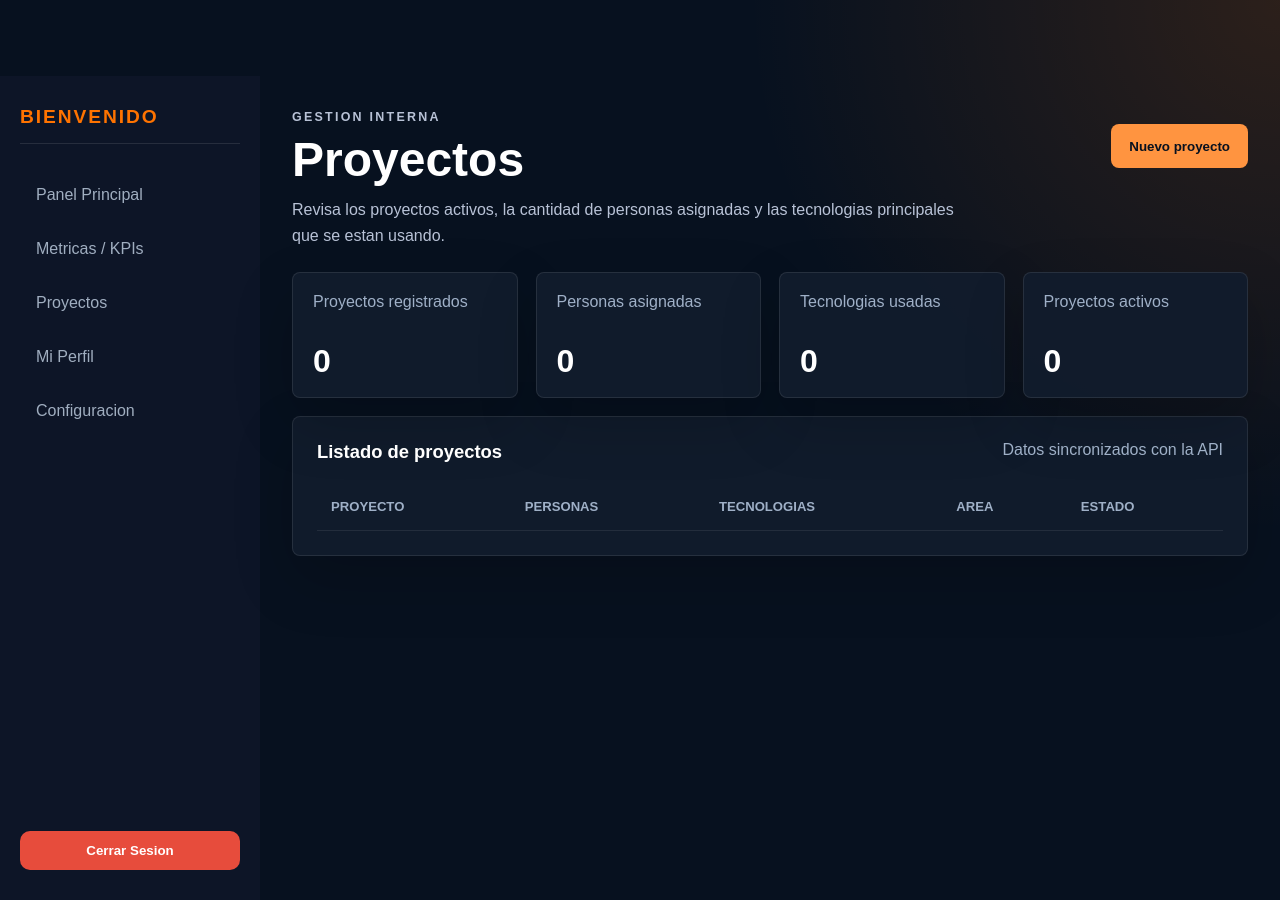
Scenario: Componente Proyectos › 4. Abre/Cierra el formulario y bloquea la creación si el usuario no está autenticado
Click the button "Nuevo proyecto".
click(1180, 146)  # box [1111, 124, 1248, 168]
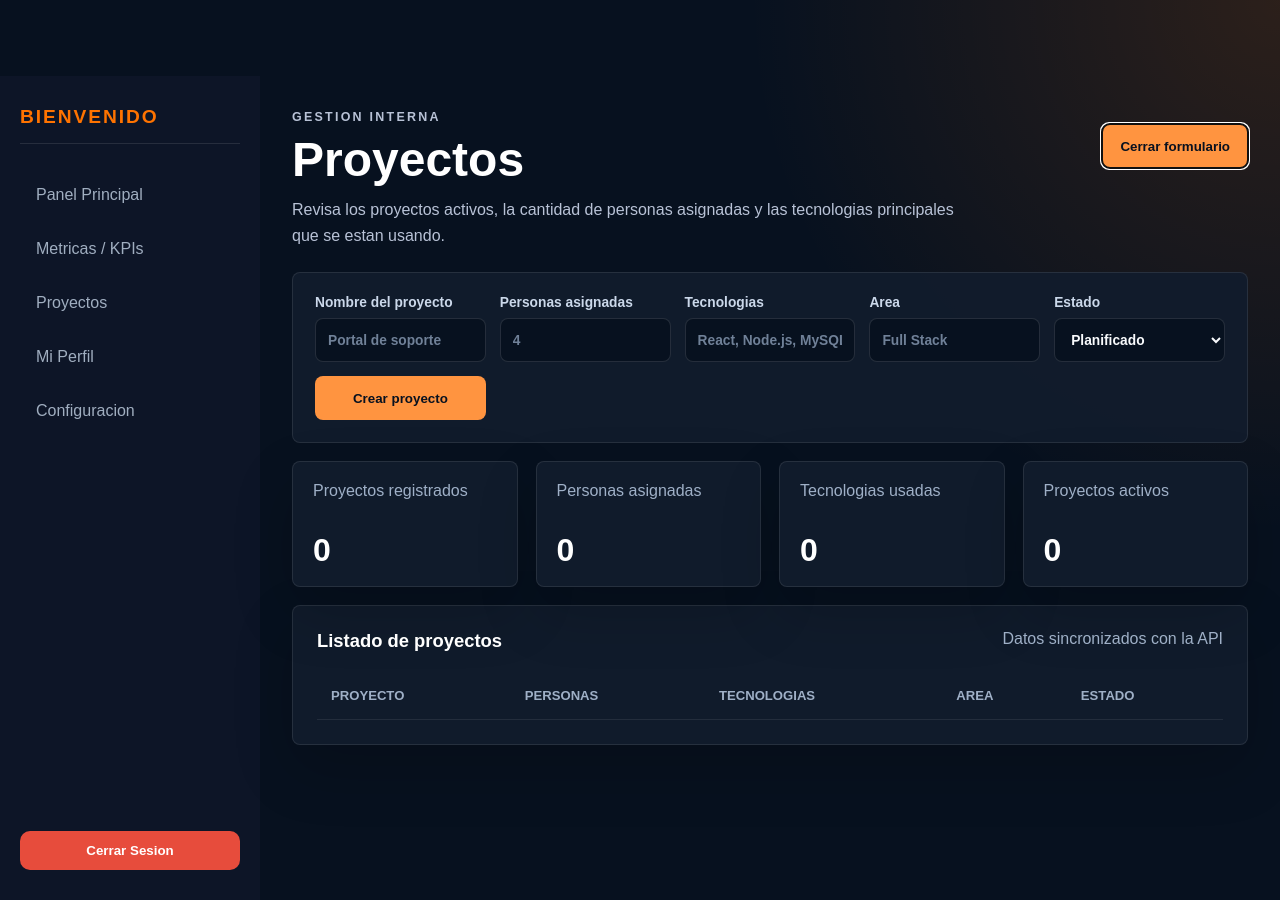
Result: the element named "Crear nuevo proyecto" is shown at [292, 272, 1248, 443]
Result: the button "Cerrar formulario" is shown at [1102, 124, 1248, 168]
# Rellenamos datos obligatorios
Type "Inseguro" into the field labelled "Nombre del proyecto".
click(400, 340); type("Inseguro")  # box [315, 318, 486, 362]
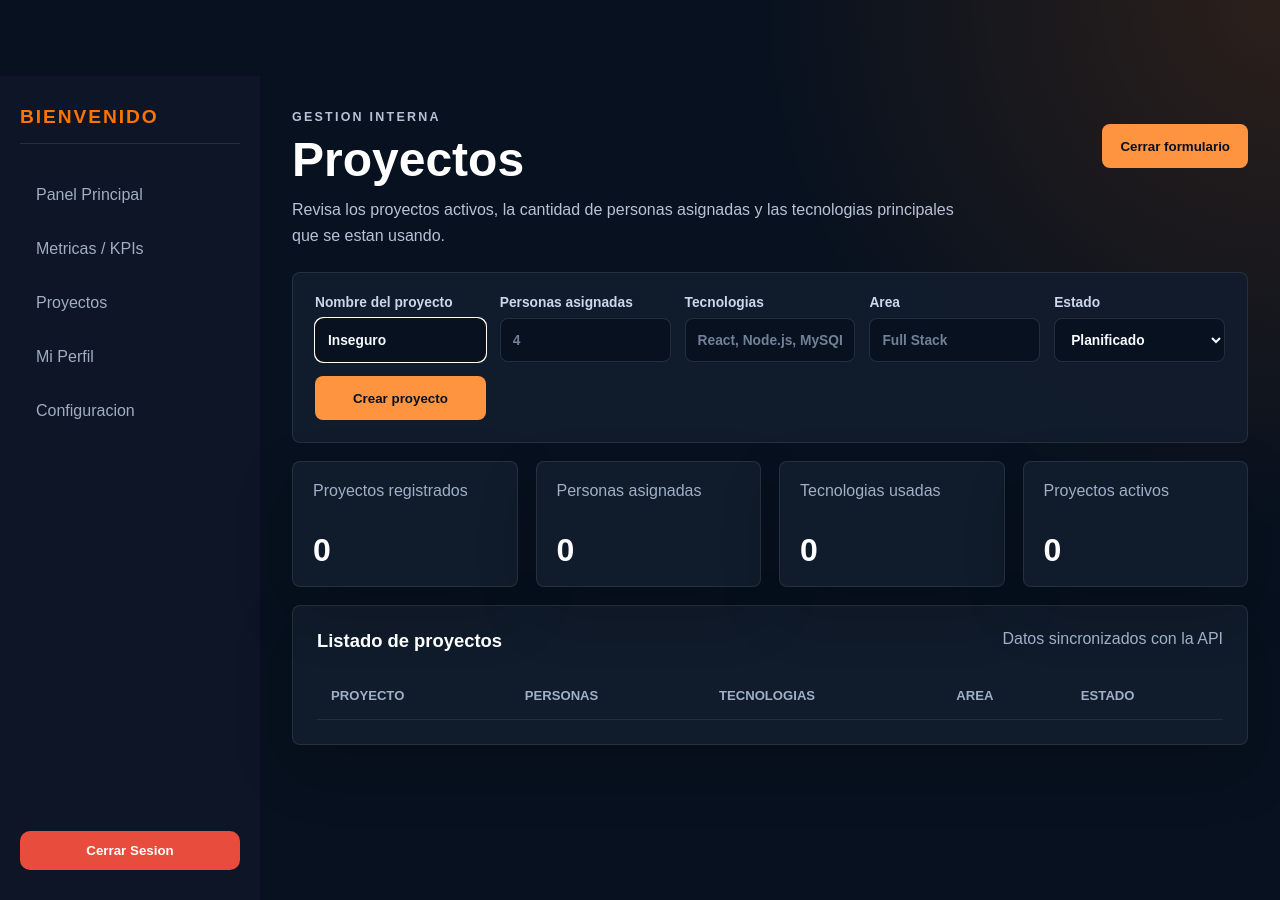
Type "2" into the number field labelled "Personas asignadas".
click(585, 340); type("2")  # box [500, 318, 671, 362]
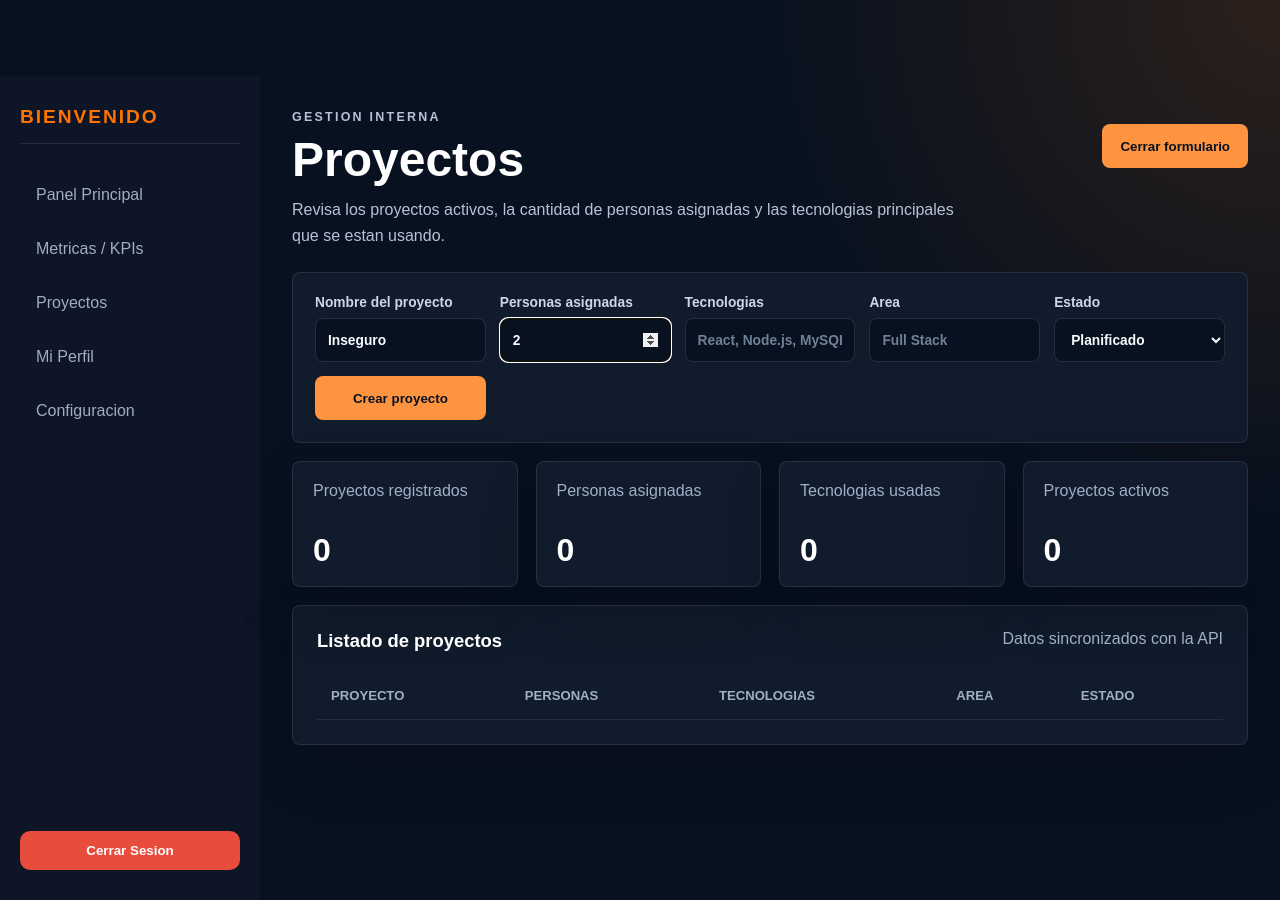
Type "Python" into the field labelled "Tecnologias".
click(770, 340); type("Python")  # box [685, 318, 855, 362]
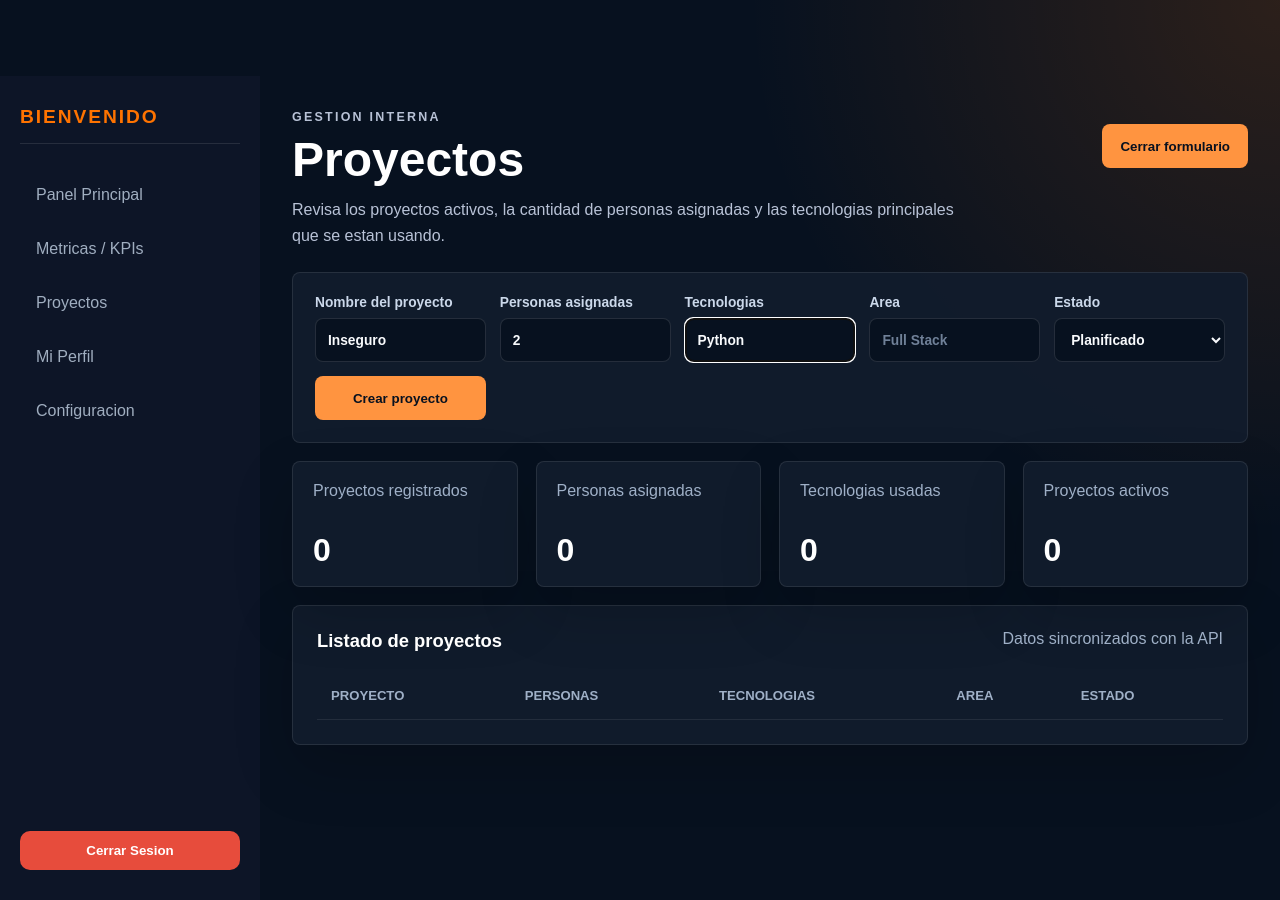
Type "Data" into the field labelled "Area".
click(955, 340); type("Data")  # box [869, 318, 1040, 362]
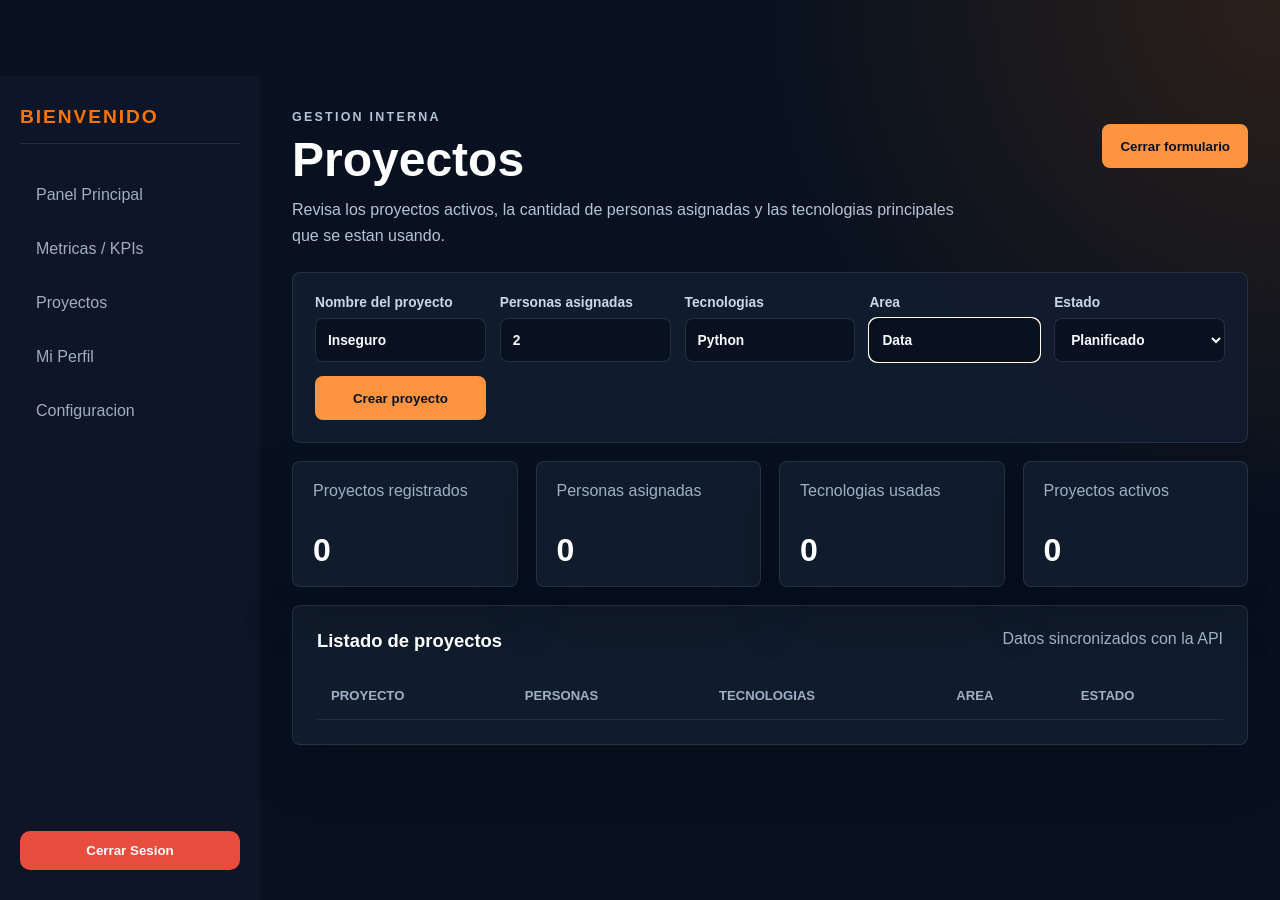
Click the button "Crear proyecto".
click(400, 398)  # box [315, 376, 486, 420]
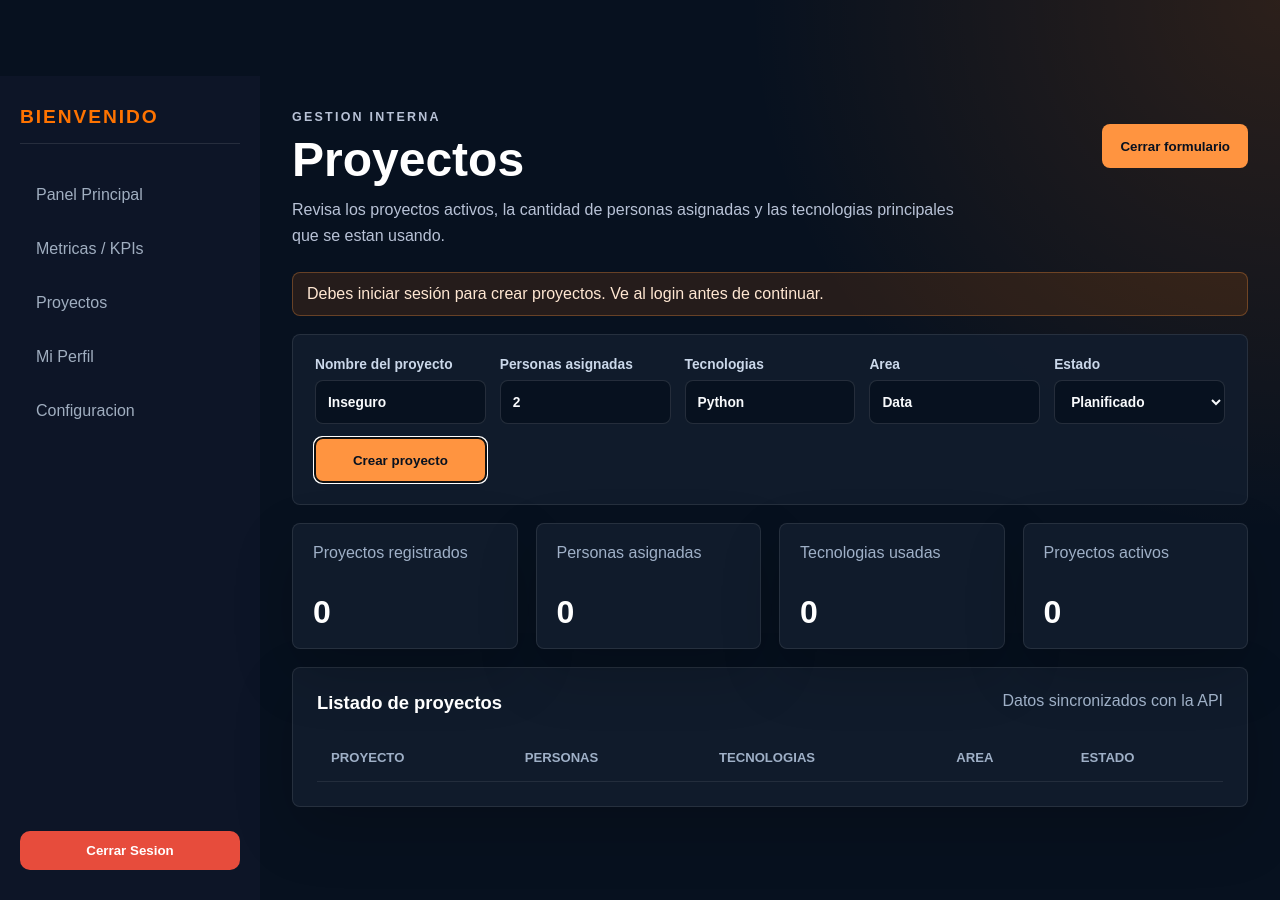
Result: the text "Debes iniciar sesión para crear proyectos" is shown at [307, 285, 824, 302]
